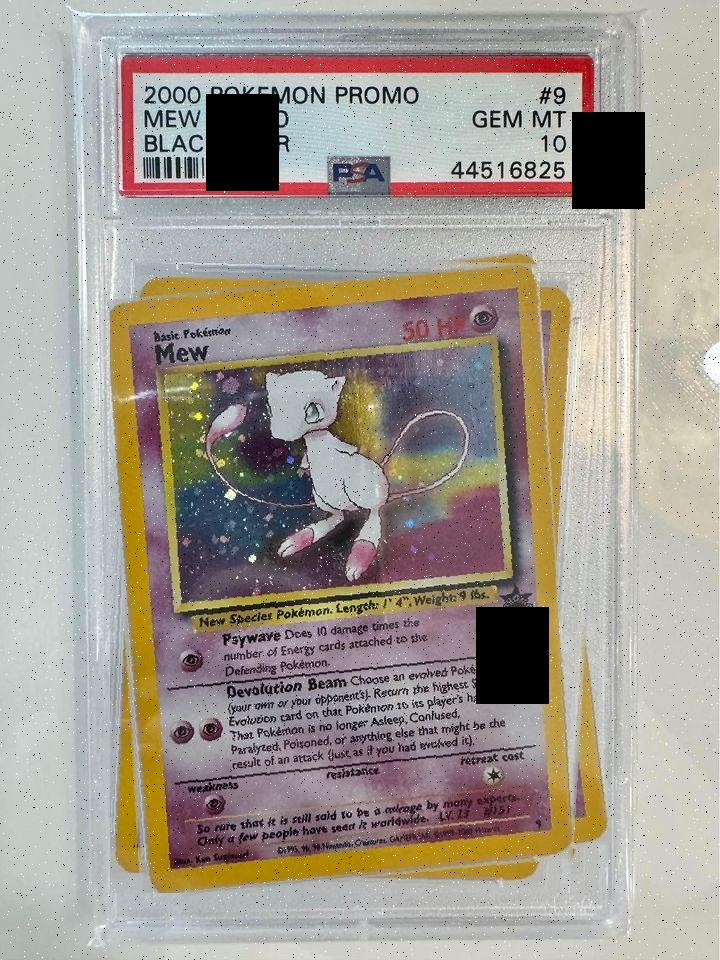card: (110, 264, 576, 893)
